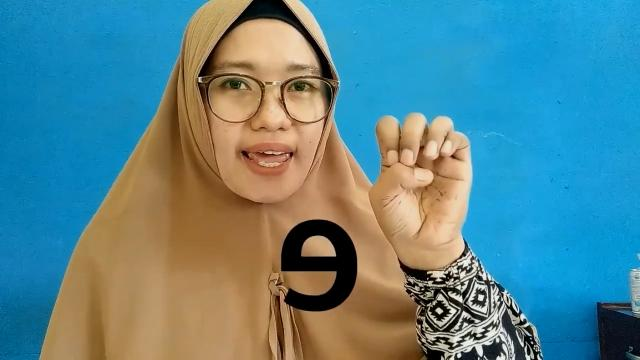E: (368, 112, 474, 258)
